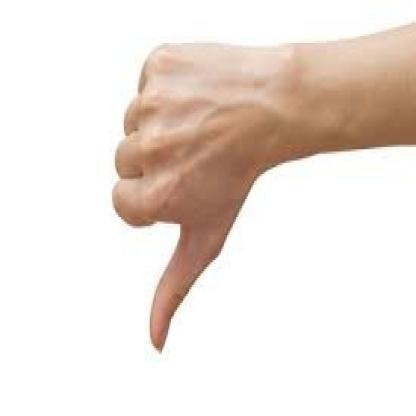thumb_down: (108, 34, 256, 356)
